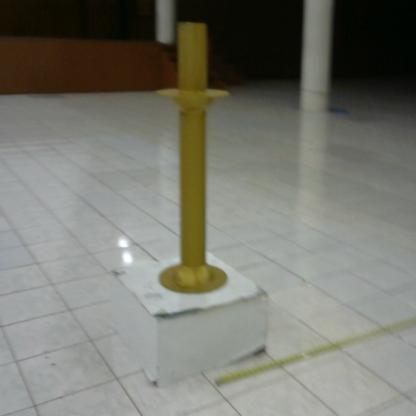pole: (151, 15, 239, 301)
